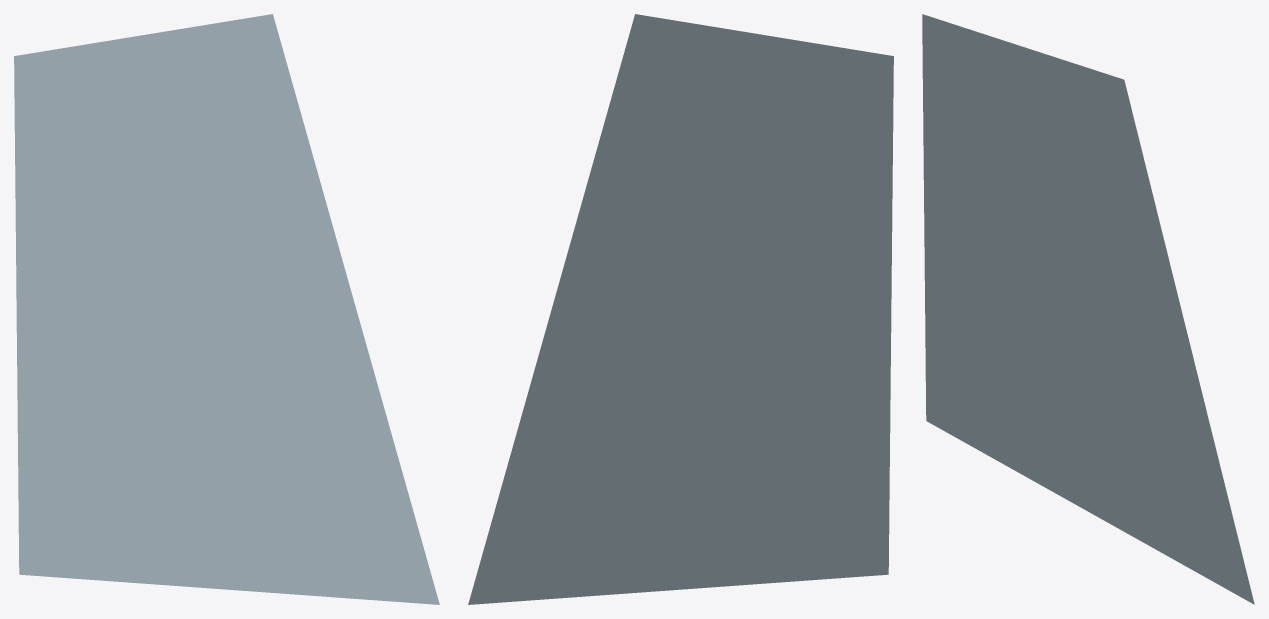
The picture shows the model from 3 angles, left to right: view 1: azimuth 30°, elevation 25°; view 2: azimuth 150°, elevation 25°; view 3: azimuth 330°, elevation 25°; orthographic projection. The views are drawn at different scales.
Parts seen in each view (by area): view 1: pCube14; view 2: pCube14; view 3: pCube14.
Boxes of the visible parts, left/top/right/bottom form: pCube14: left=14, top=14, right=439, bottom=604; pCube14: left=468, top=14, right=893, bottom=604; pCube14: left=922, top=14, right=1254, bottom=604.
Size of the model in its own units: 28.93 by 42.37 by 0.
